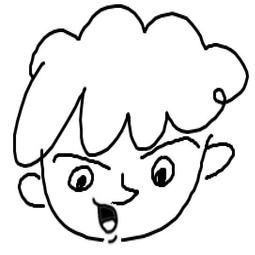ear: (202, 134, 237, 187), (12, 172, 48, 212)
eye: (151, 153, 179, 190), (67, 164, 96, 194)
frowning_eyebrow: (139, 132, 202, 162), (52, 152, 113, 171)
open_mouth: (93, 205, 122, 236)
pointy_nose: (113, 171, 139, 208)
